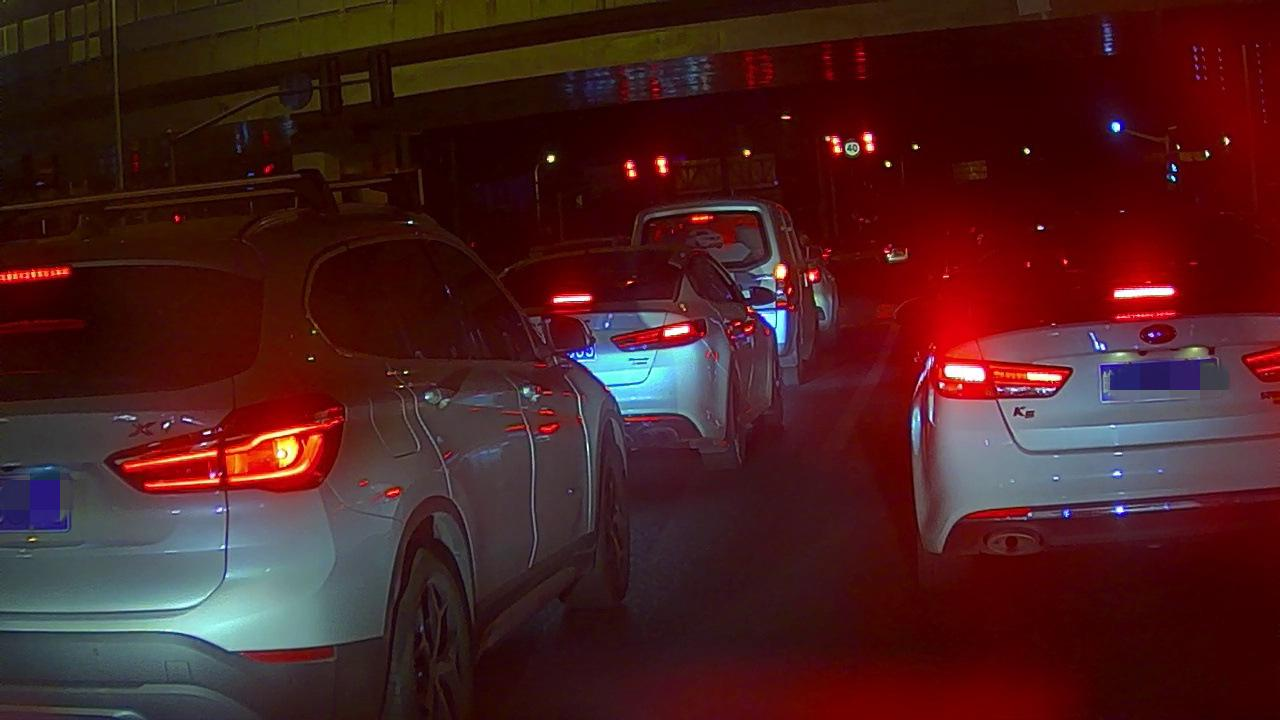traffic_light: (860, 129, 876, 157), (622, 158, 639, 183), (653, 154, 669, 179), (828, 134, 843, 157)
